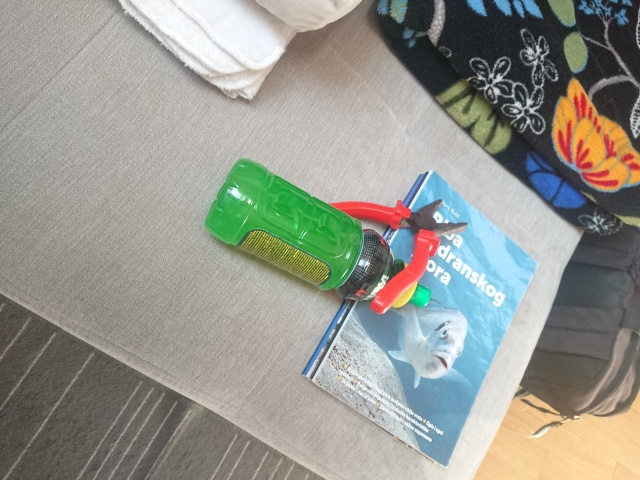Vindi Iso Sport Lemon-Grapefruit 500mL: (201, 156, 434, 312)
